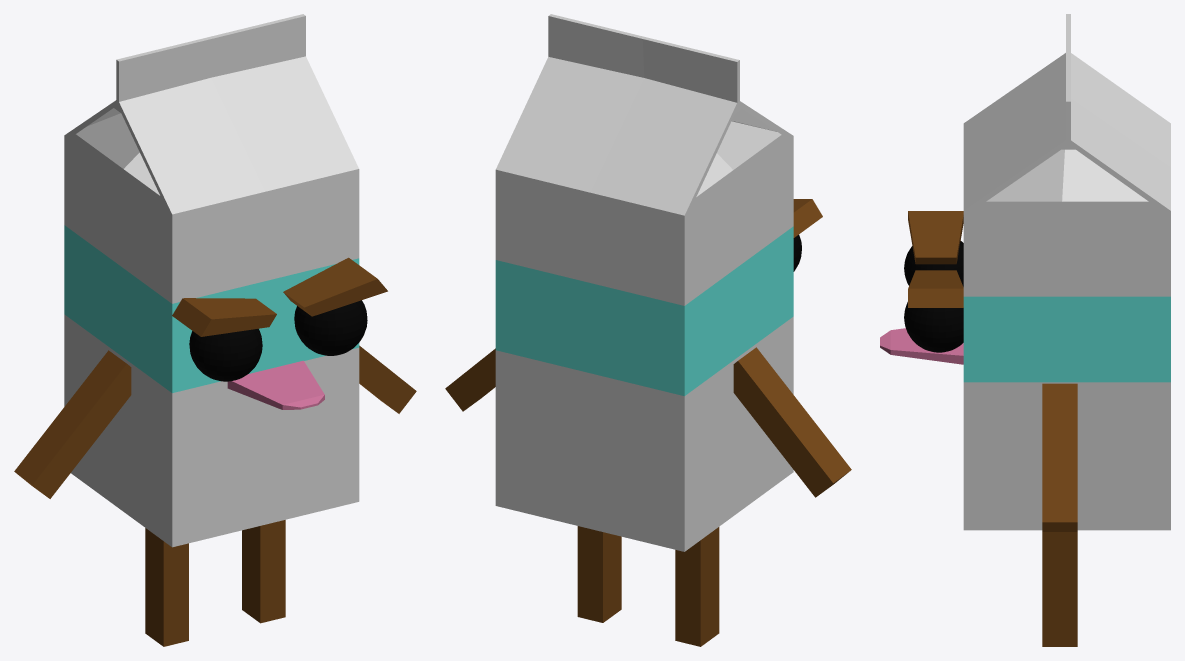
The model's file is milk.glb.
3 renders of one model, left to right at view 1: azimuth 30°, elevation 25°; view 2: azimuth 150°, elevation 25°; view 3: azimuth 270°, elevation 25°, orthographic. The views are drawn at different scales.
Parts seen in each view (by area): view 1: Cube, Cube.003, Cube.002, Sphere, Cube.001; view 2: Cube, Cube.003, Cube.002; view 3: Cube, Cube.003, Cube.002, Sphere, Cube.001.
Part boxes in pixels (x1=…): Cube: x1=64, y1=14, x2=359, y2=547; Cube.003: x1=14, y1=345, x2=416, y2=646; Cube.002: x1=172, y1=257, x2=387, y2=336; Sphere: x1=189, y1=300, x2=367, y2=381; Cube.001: x1=227, y1=360, x2=324, y2=409; Cube: x1=495, y1=14, x2=793, y2=551; Cube.003: x1=445, y1=347, x2=851, y2=646; Cube.002: x1=793, y1=199, x2=822, y2=238; Cube: x1=963, y1=14, x2=1170, y2=530; Cube.003: x1=1042, y1=383, x2=1077, y2=646; Cube.002: x1=908, y1=211, x2=963, y2=307; Sphere: x1=904, y1=241, x2=963, y2=352; Cube.001: x1=880, y1=328, x2=963, y2=364.
Bounding box in the file's own units: 4.11 × 5.97 × 2.81.
